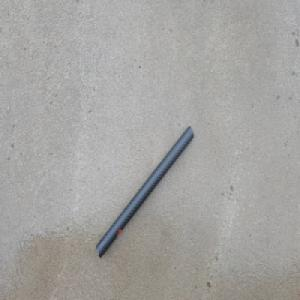LuggagePart: (95, 125, 194, 259)
